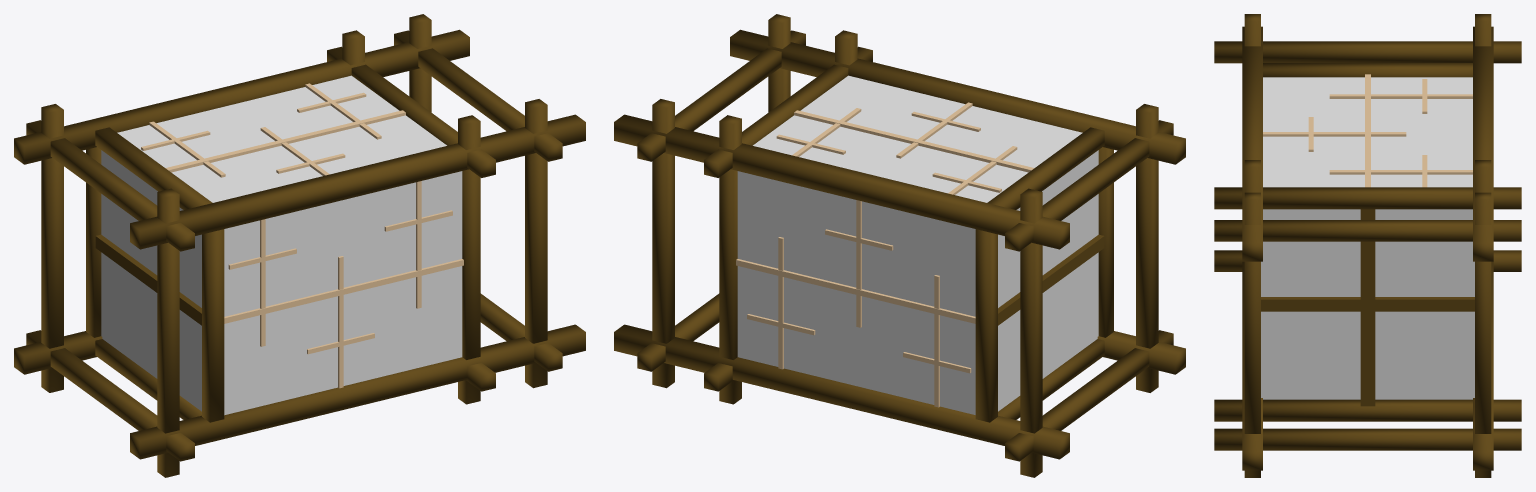
The model's file is LampJapanese.fbx.
3 views of the same model, side by side, from view 1: azimuth 30°, elevation 25°; view 2: azimuth 150°, elevation 25°; view 3: azimuth 270°, elevation 25° (orthographic).
Parts seen in each view (by area): view 1: polySurface194, polySurface214, polySurface215, polySurface202, polySurface197; view 2: polySurface194, polySurface214, polySurface215, polySurface202, polySurface197; view 3: polySurface194, polySurface214, polySurface215, polySurface202.
Boxes of the visible parts, x1,y1,x2,y2 form: polySurface194: (14, 14, 585, 477); polySurface214: (101, 75, 462, 415); polySurface215: (141, 83, 463, 388); polySurface202: (95, 127, 212, 209); polySurface197: (95, 234, 201, 325); polySurface194: (614, 14, 1185, 477); polySurface214: (737, 75, 1098, 414); polySurface215: (736, 102, 1034, 407); polySurface202: (987, 127, 1104, 209); polySurface197: (998, 234, 1104, 325); polySurface194: (1214, 14, 1521, 477); polySurface214: (1261, 77, 1474, 399); polySurface215: (1263, 74, 1472, 187); polySurface202: (1263, 63, 1472, 77).
Bounding box in the file's own units: 39.99 × 24 × 24.
